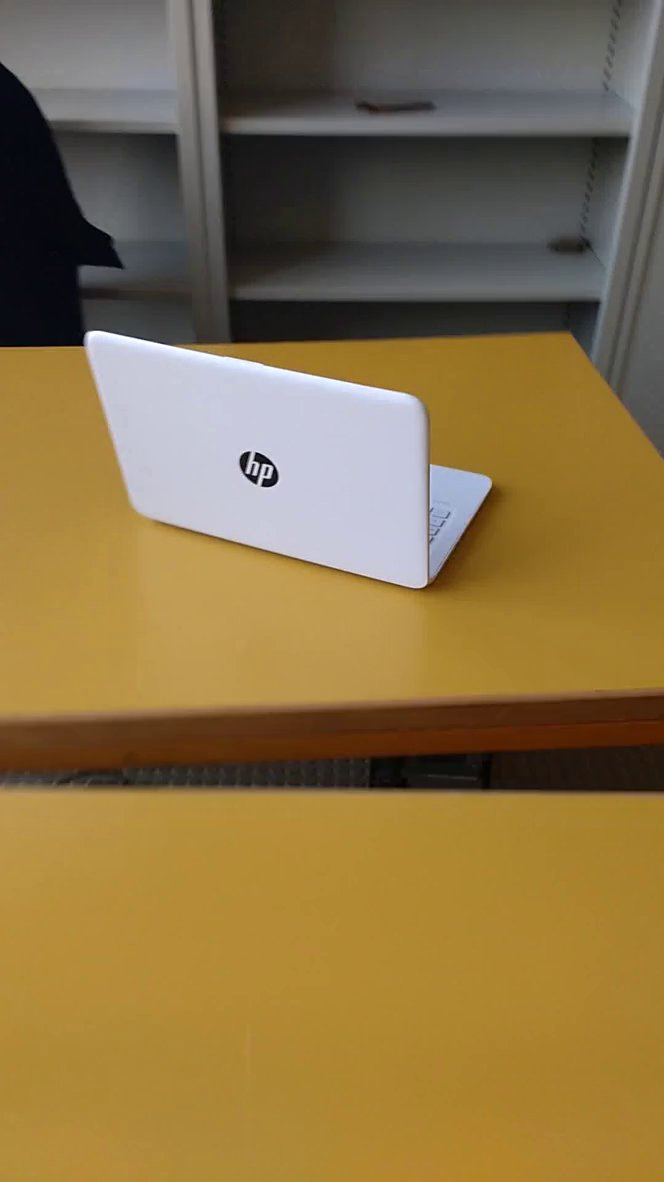laptop: (79, 322, 512, 600)
